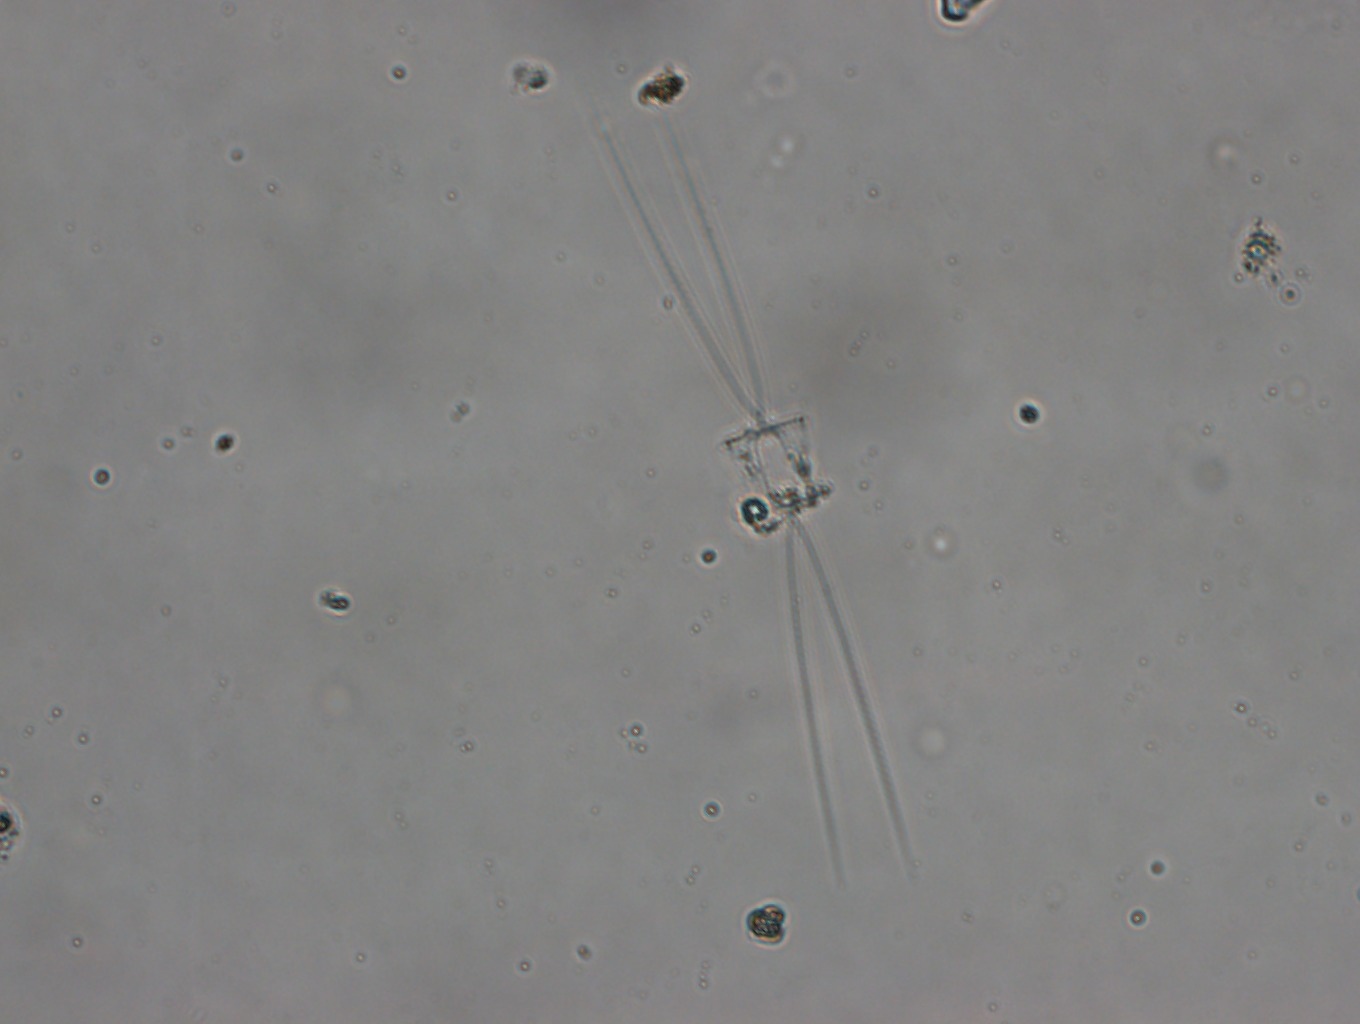chaetoceros: (599, 105, 920, 891)
